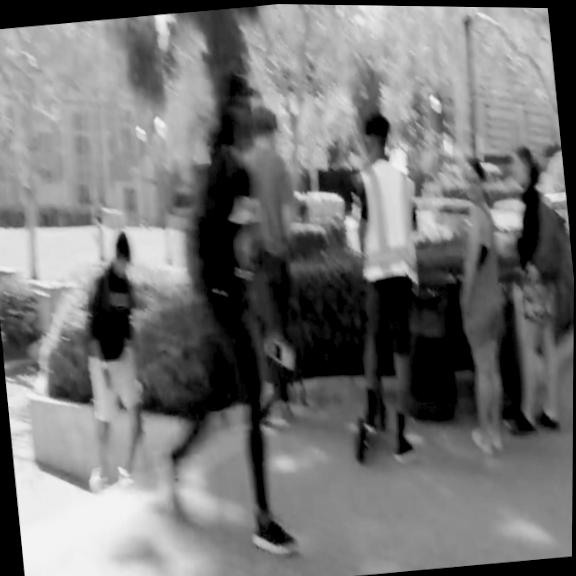safety_vest: (351, 155, 425, 287)
